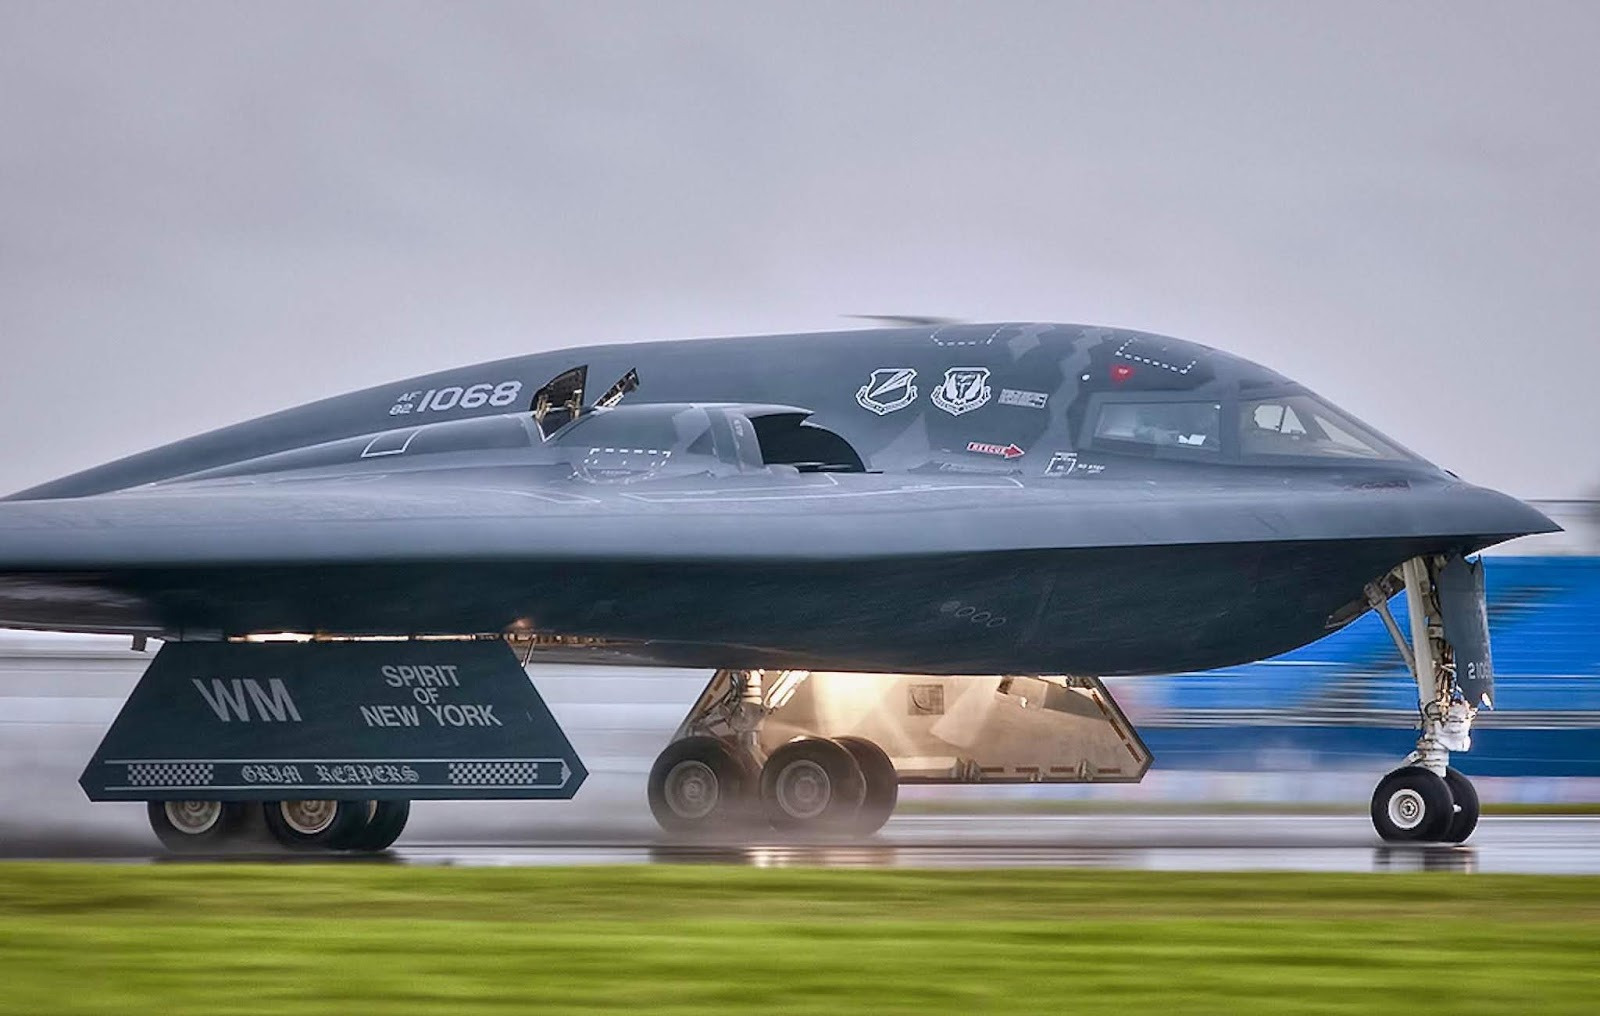B2: (1, 313, 1567, 850)
